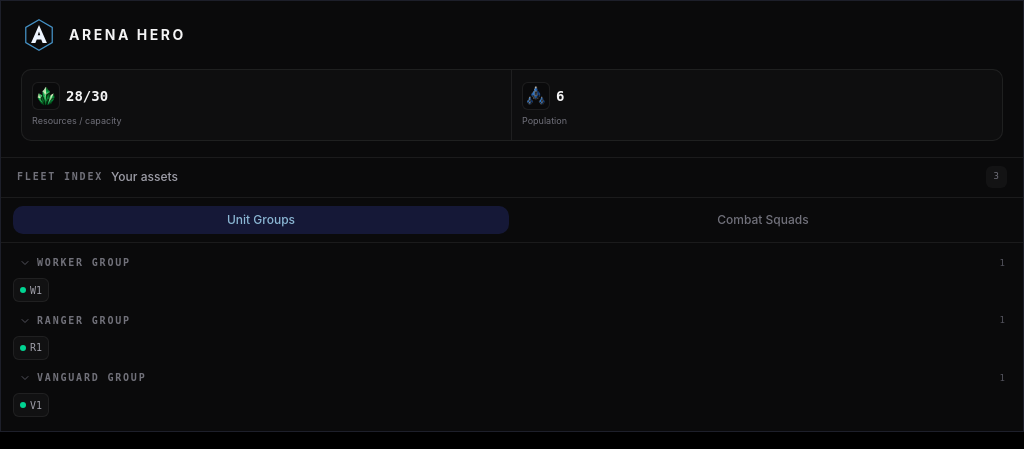
AssetList › fleet view tabs › shows the unit-type groups by default and switches to combat squads
Expected: the element "Worker Group" is shown, [9, 250, 1015, 308]
Expected: the element "Home Squad" is not shown
Click the tab "Combat Squads" at (763, 220), box [515, 206, 1011, 234]
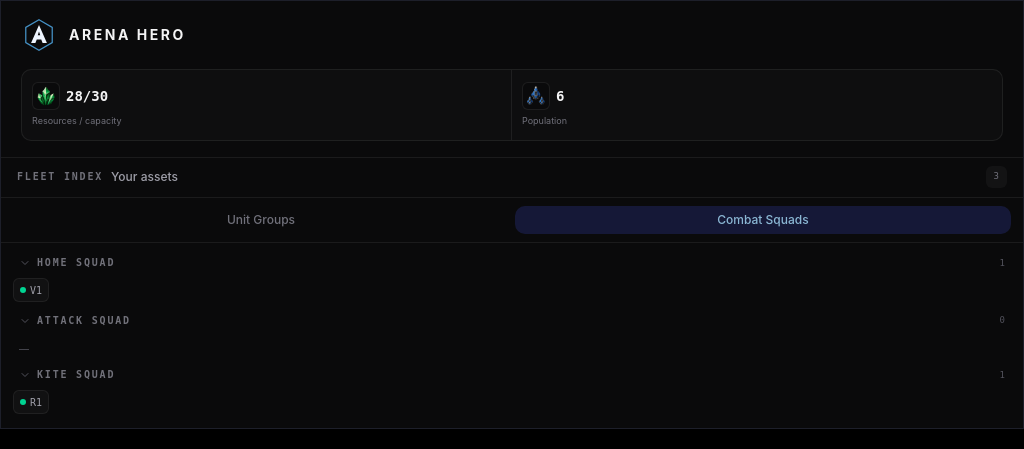
Now the button "Worker Group" is gone
Now the element "Home Squad" shows "V1", box [13, 278, 49, 302]
Now the element "Kite Squad" shows "R1", box [13, 390, 49, 414]
